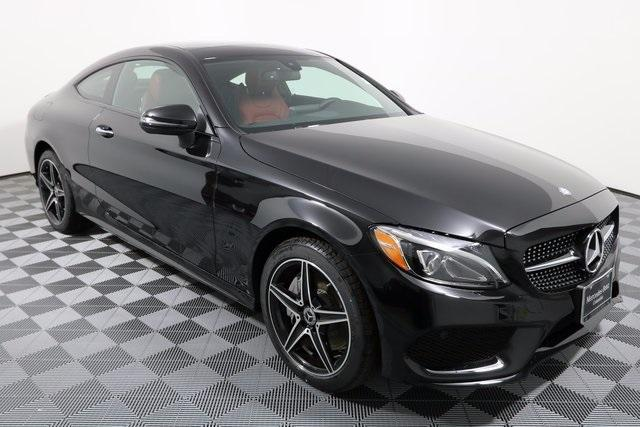C300Coupe: (23, 30, 629, 407)
